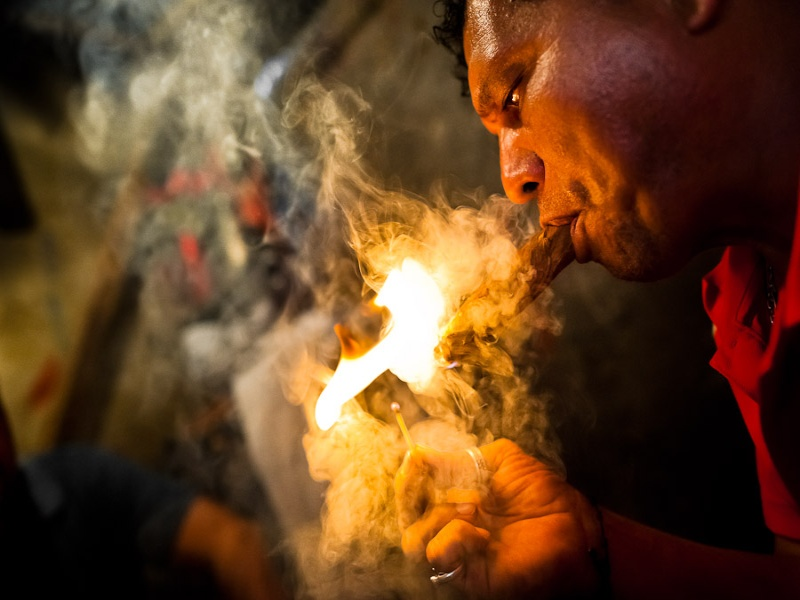smoke: (124, 59, 524, 352)
